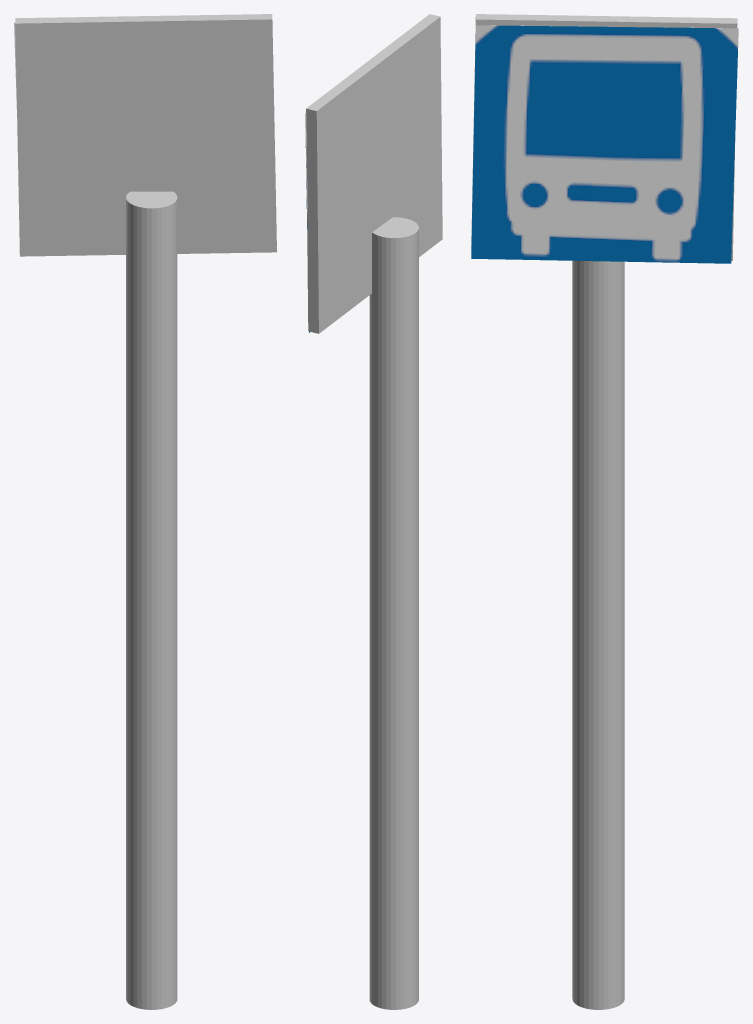
File: bussign1.gltf
The picture shows the model from 3 angles, left to right: view 1: azimuth 90°, elevation 25°; view 2: azimuth 150°, elevation 25°; view 3: azimuth 270°, elevation 25°; orthographic projection. The views are drawn at different scales.
Parts seen in each view (by area): view 1: Cube.001, Cylinder; view 2: Cylinder, Cube.001; view 3: Cube, Cylinder, Cube.001.
Part boxes in pixels (box(x1,y1,x2,y2)): Cube.001: box(15, 14, 276, 256); Cylinder: box(126, 191, 177, 1009); Cylinder: box(369, 217, 418, 1009); Cube.001: box(306, 14, 442, 333); Cube: box(471, 25, 738, 263); Cylinder: box(572, 260, 624, 1009); Cube.001: box(471, 14, 737, 260).
Size of the model in its own units: 0.4117 by 8.36 by 2.05.
Materials: 1 (1 with a texture image).
